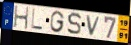7: (103, 16, 118, 40)
G: (50, 11, 66, 34)
H: (13, 5, 30, 31)
L: (31, 9, 44, 31)
S: (67, 12, 83, 36)
V: (85, 15, 102, 37)
